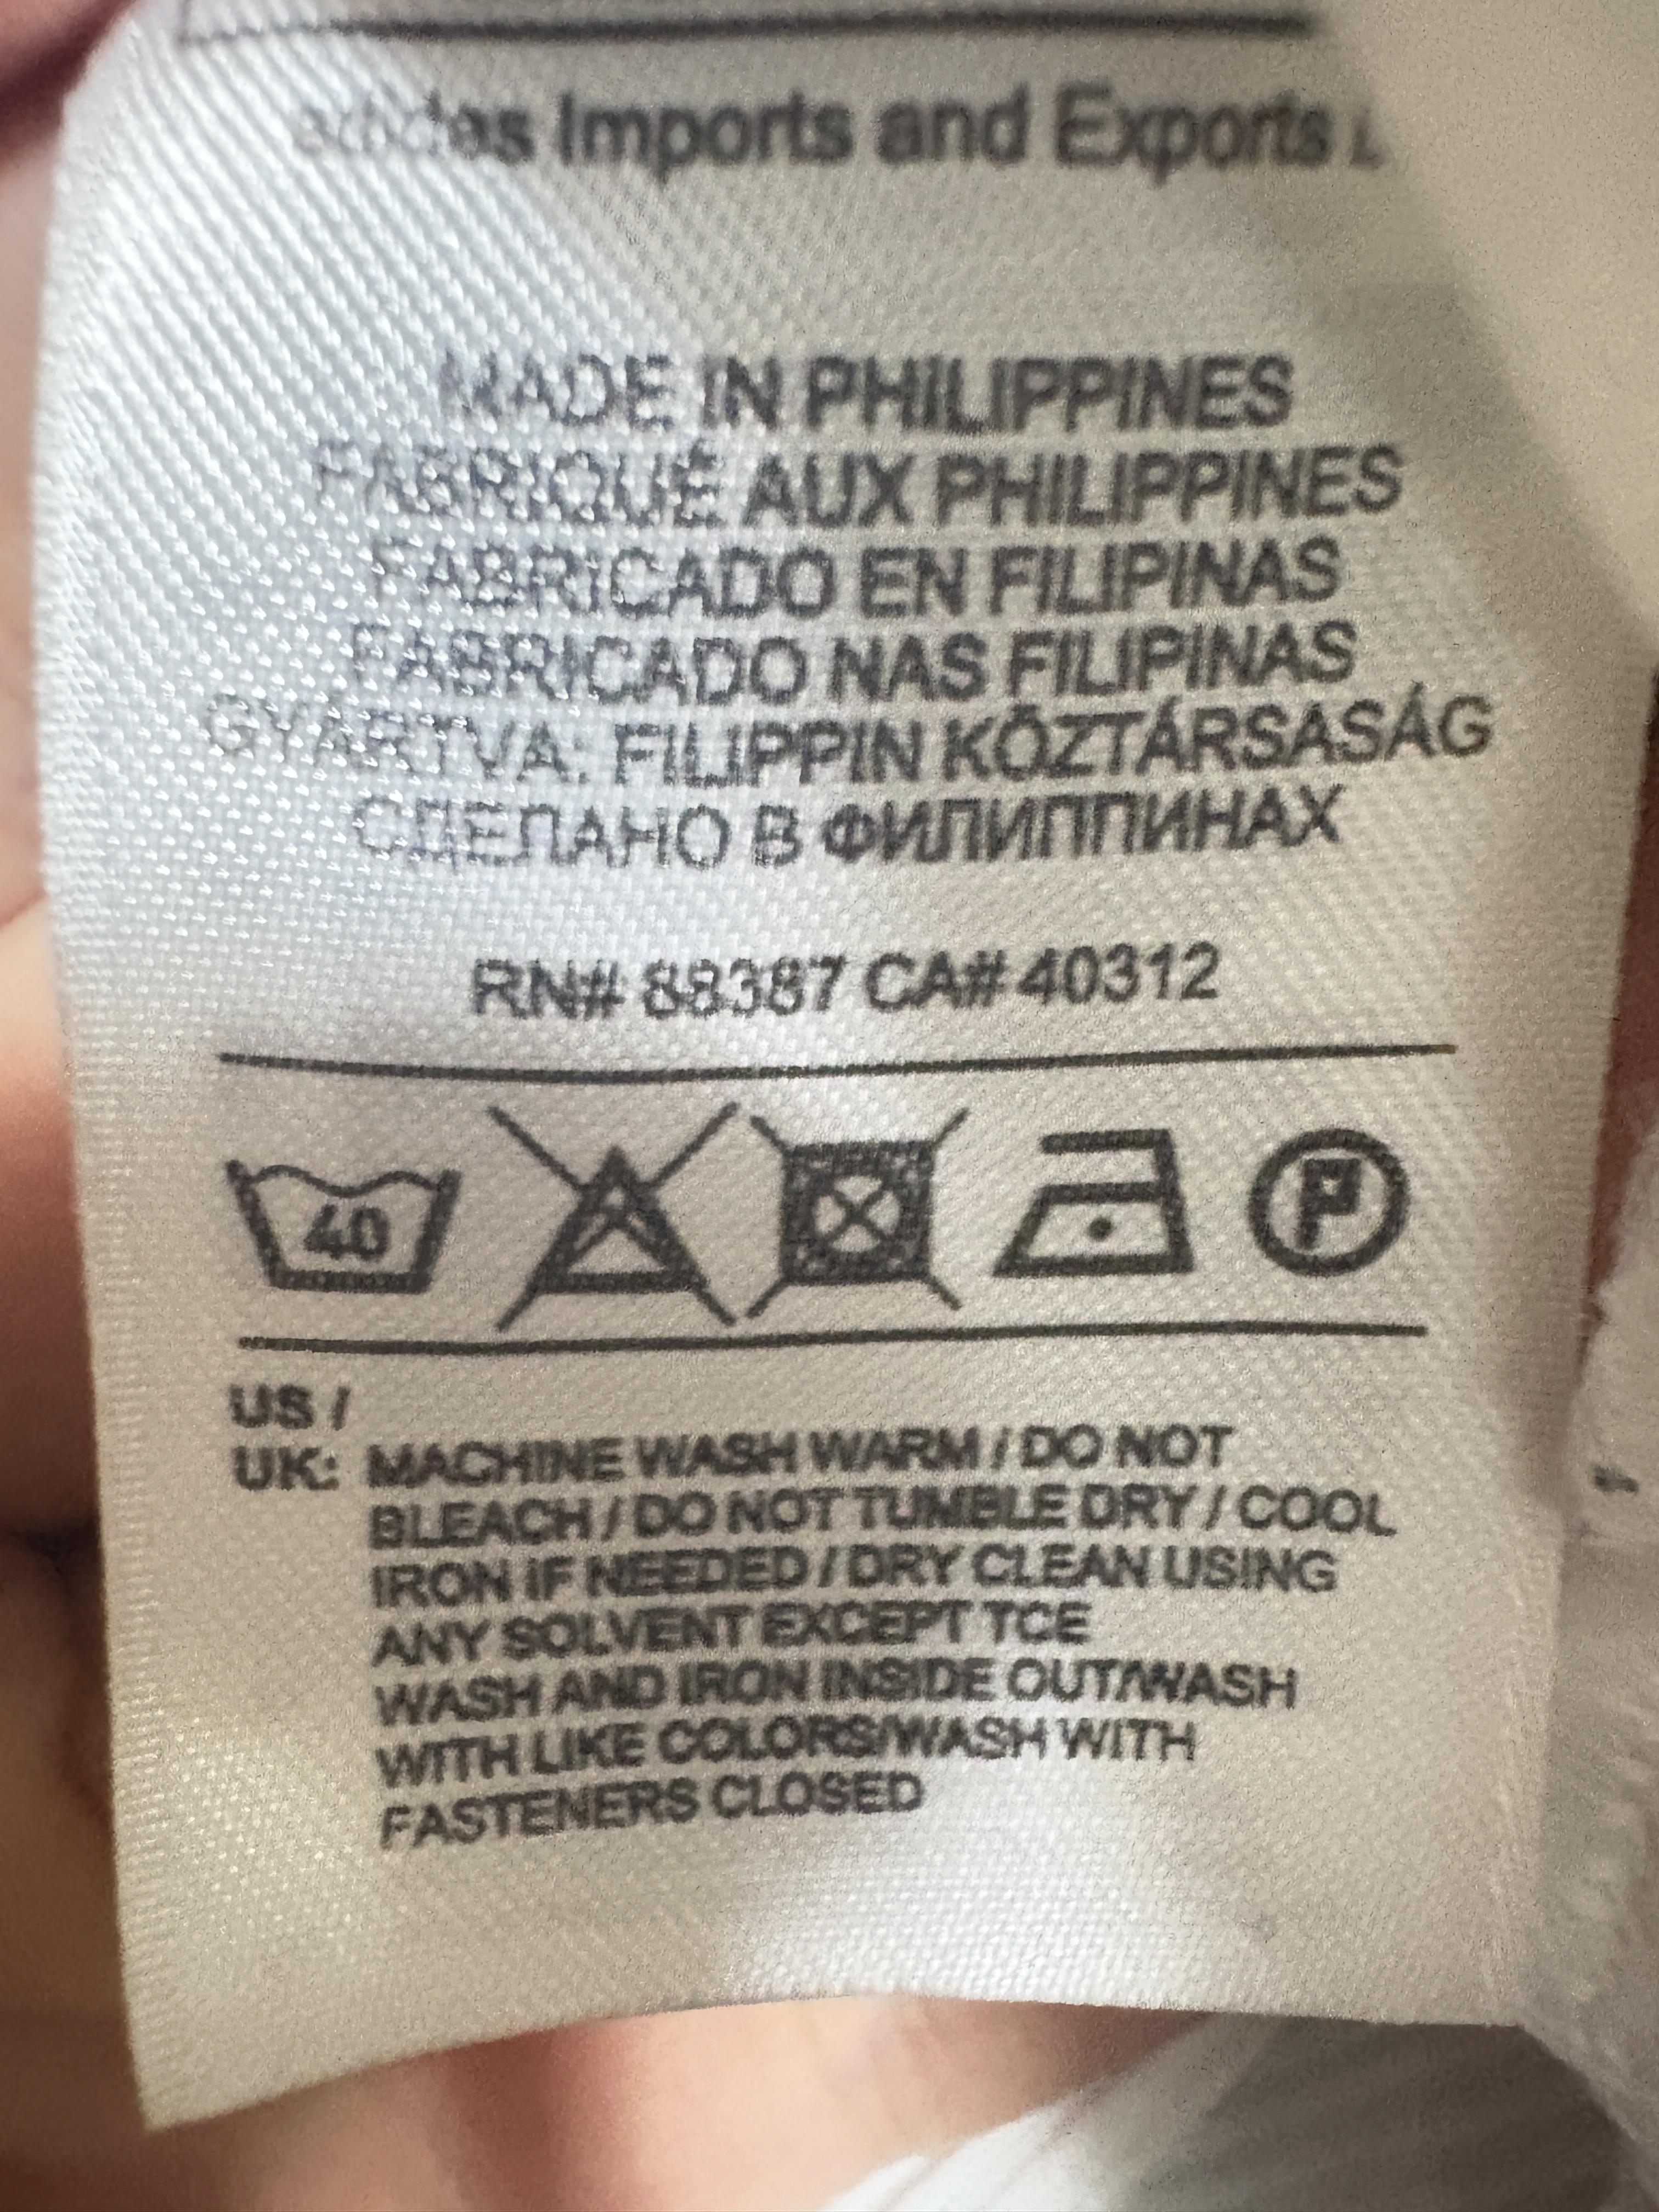40C: (221, 1134, 469, 1315)
DN_bleach: (479, 1094, 746, 1343)
DN_tumble_dry: (744, 1094, 974, 1322)
dry_clean_any_solvent_except_trichloroethylene: (1251, 1120, 1420, 1282)
iron_low: (986, 1118, 1215, 1291)
